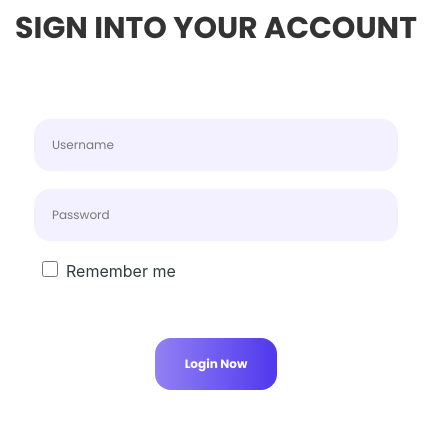
Test: Form Test › Should display validation error for password without a letter but with sufficient length.
This screenshot has width=434, height=433.
Type "test@test.com" into the field with placeholder "Username" at (216, 145), box [34,119,398,171]
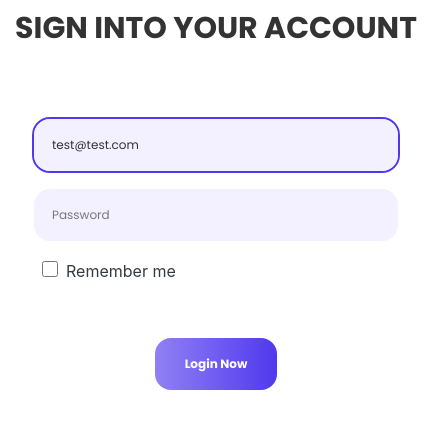
Type "123456" into the password field with placeholder "Password" at (216, 215), box [34,189,398,241]
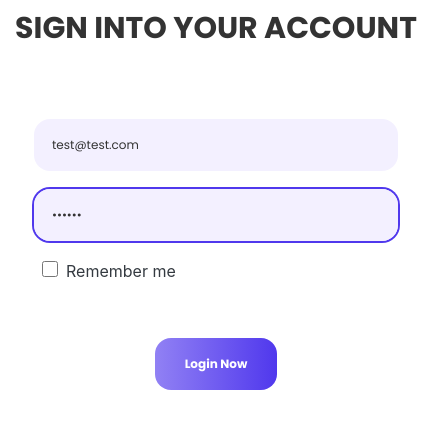
Click the button "Login Now" at (216, 364), box [155,338,277,390]
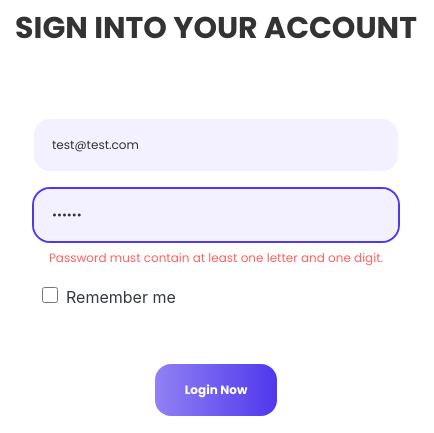
Check: the text "Password must contain at least one letter and one digit." is shown, box [34,249,398,267]
